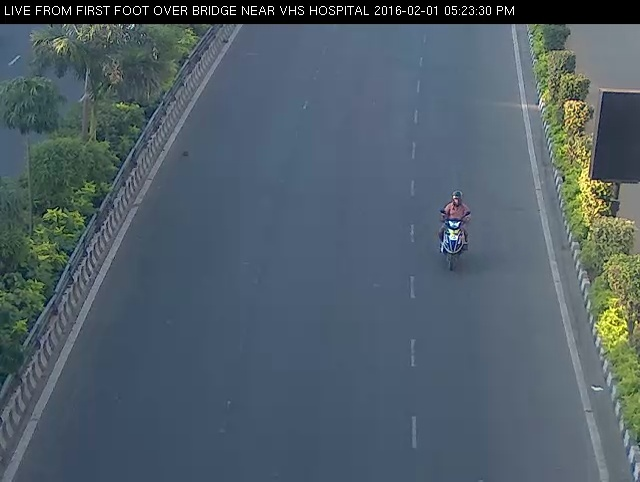Person: (429, 185, 480, 276)
